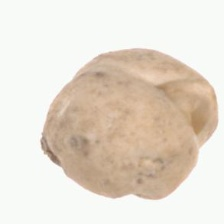L1: (152, 75, 220, 158), (40, 128, 66, 175)
L2: (40, 48, 219, 201)
